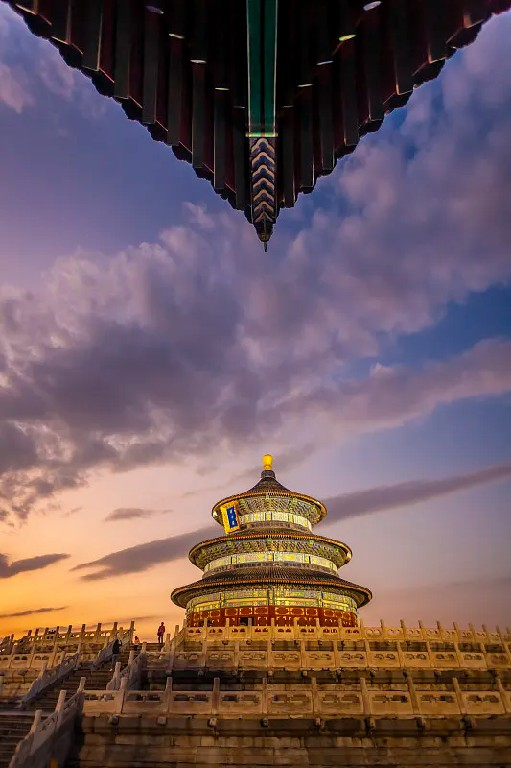Heaven: (170, 455, 372, 629)
